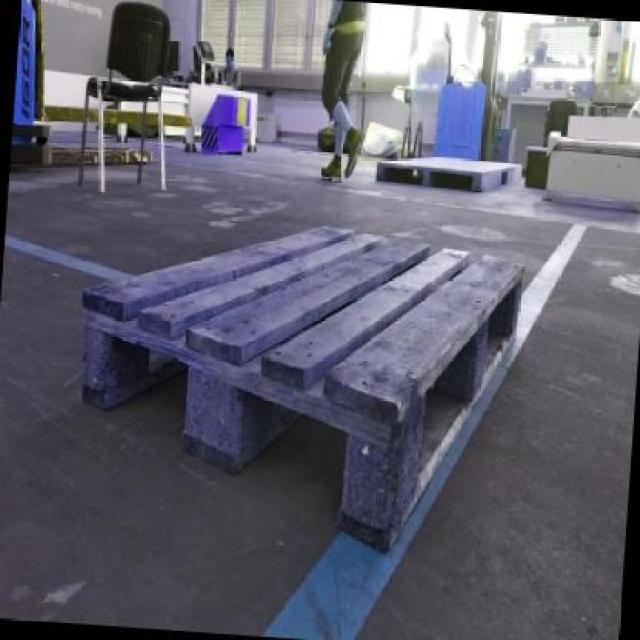block: (175, 357, 247, 470), (339, 422, 403, 549), (68, 300, 128, 408)
front: (61, 286, 405, 552), (373, 158, 478, 194)
